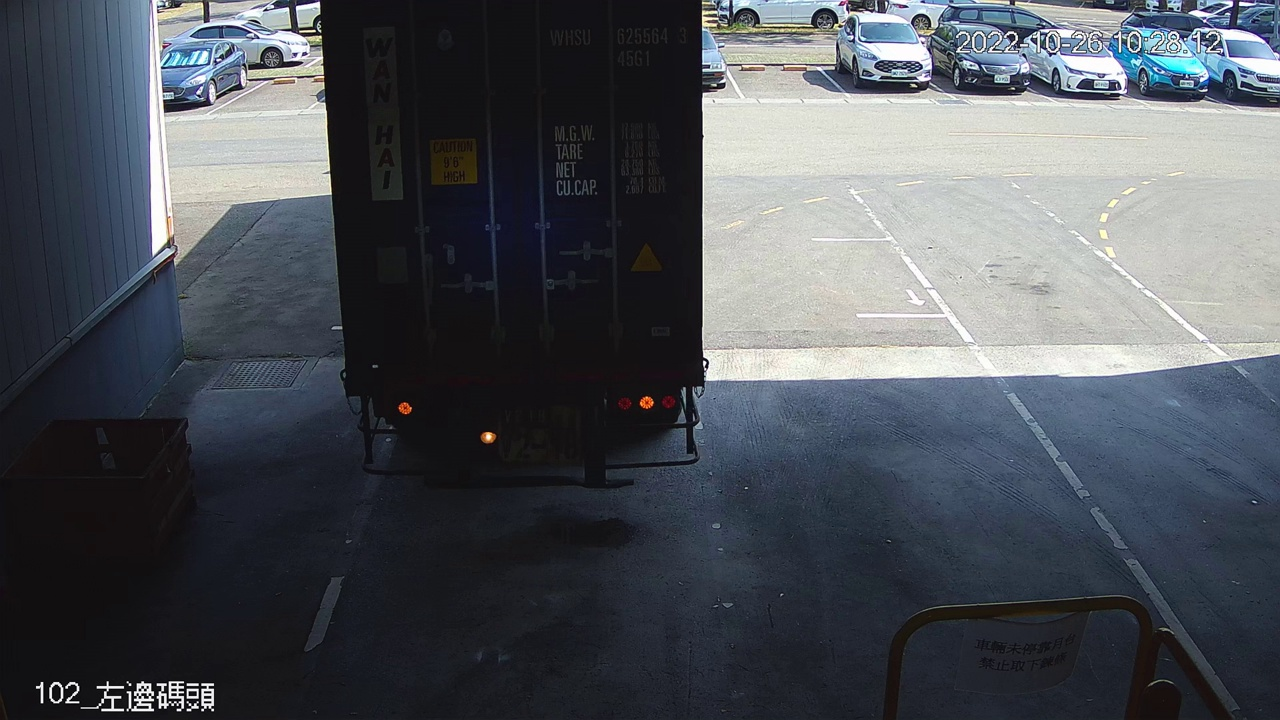container: (545, 16, 694, 74)
